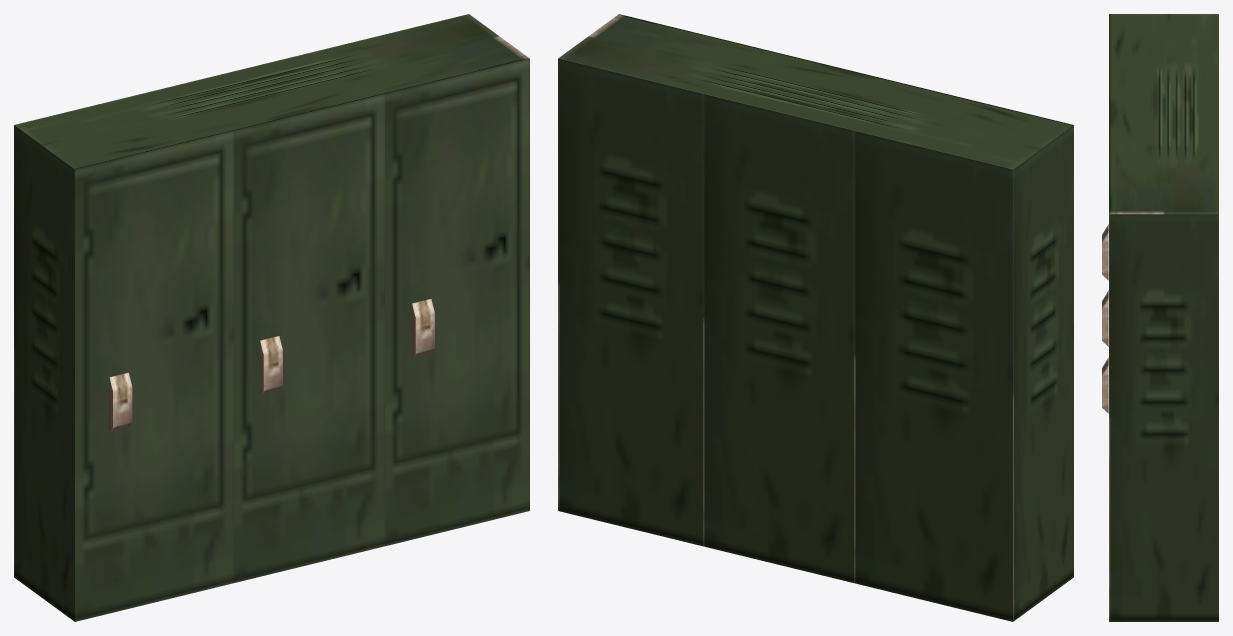
Rendered from Locker.glb.
3 renders of one model, left to right at view 1: azimuth 30°, elevation 25°; view 2: azimuth 150°, elevation 25°; view 3: azimuth 270°, elevation 25°, orthographic. The views are drawn at different scales.
Visible parts, largest first — view 1: LOCKER; view 2: LOCKER; view 3: LOCKER.
Part boxes in pixels (x1,y1,x2,y2): LOCKER: (14, 14, 529, 621); LOCKER: (558, 14, 1073, 621); LOCKER: (1102, 14, 1218, 621).
Bounding box in the file's own units: 2 × 1.9 × 0.493.
Materials: 1 (1 with a texture image).
